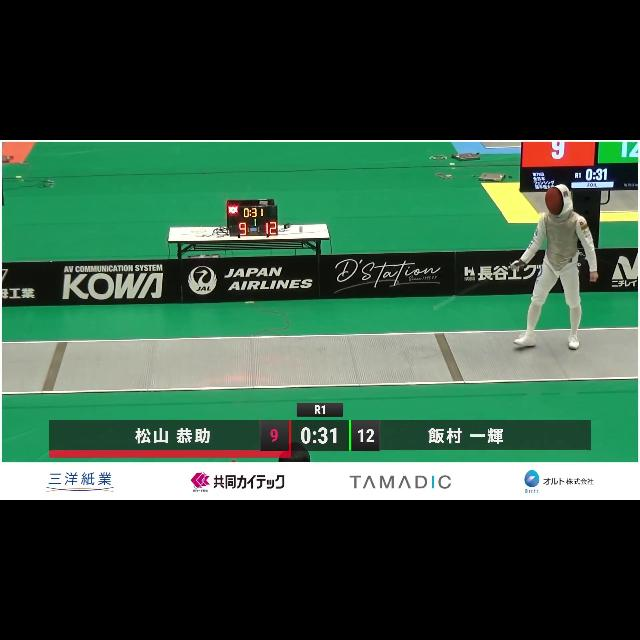blade: (431, 263, 519, 313)
